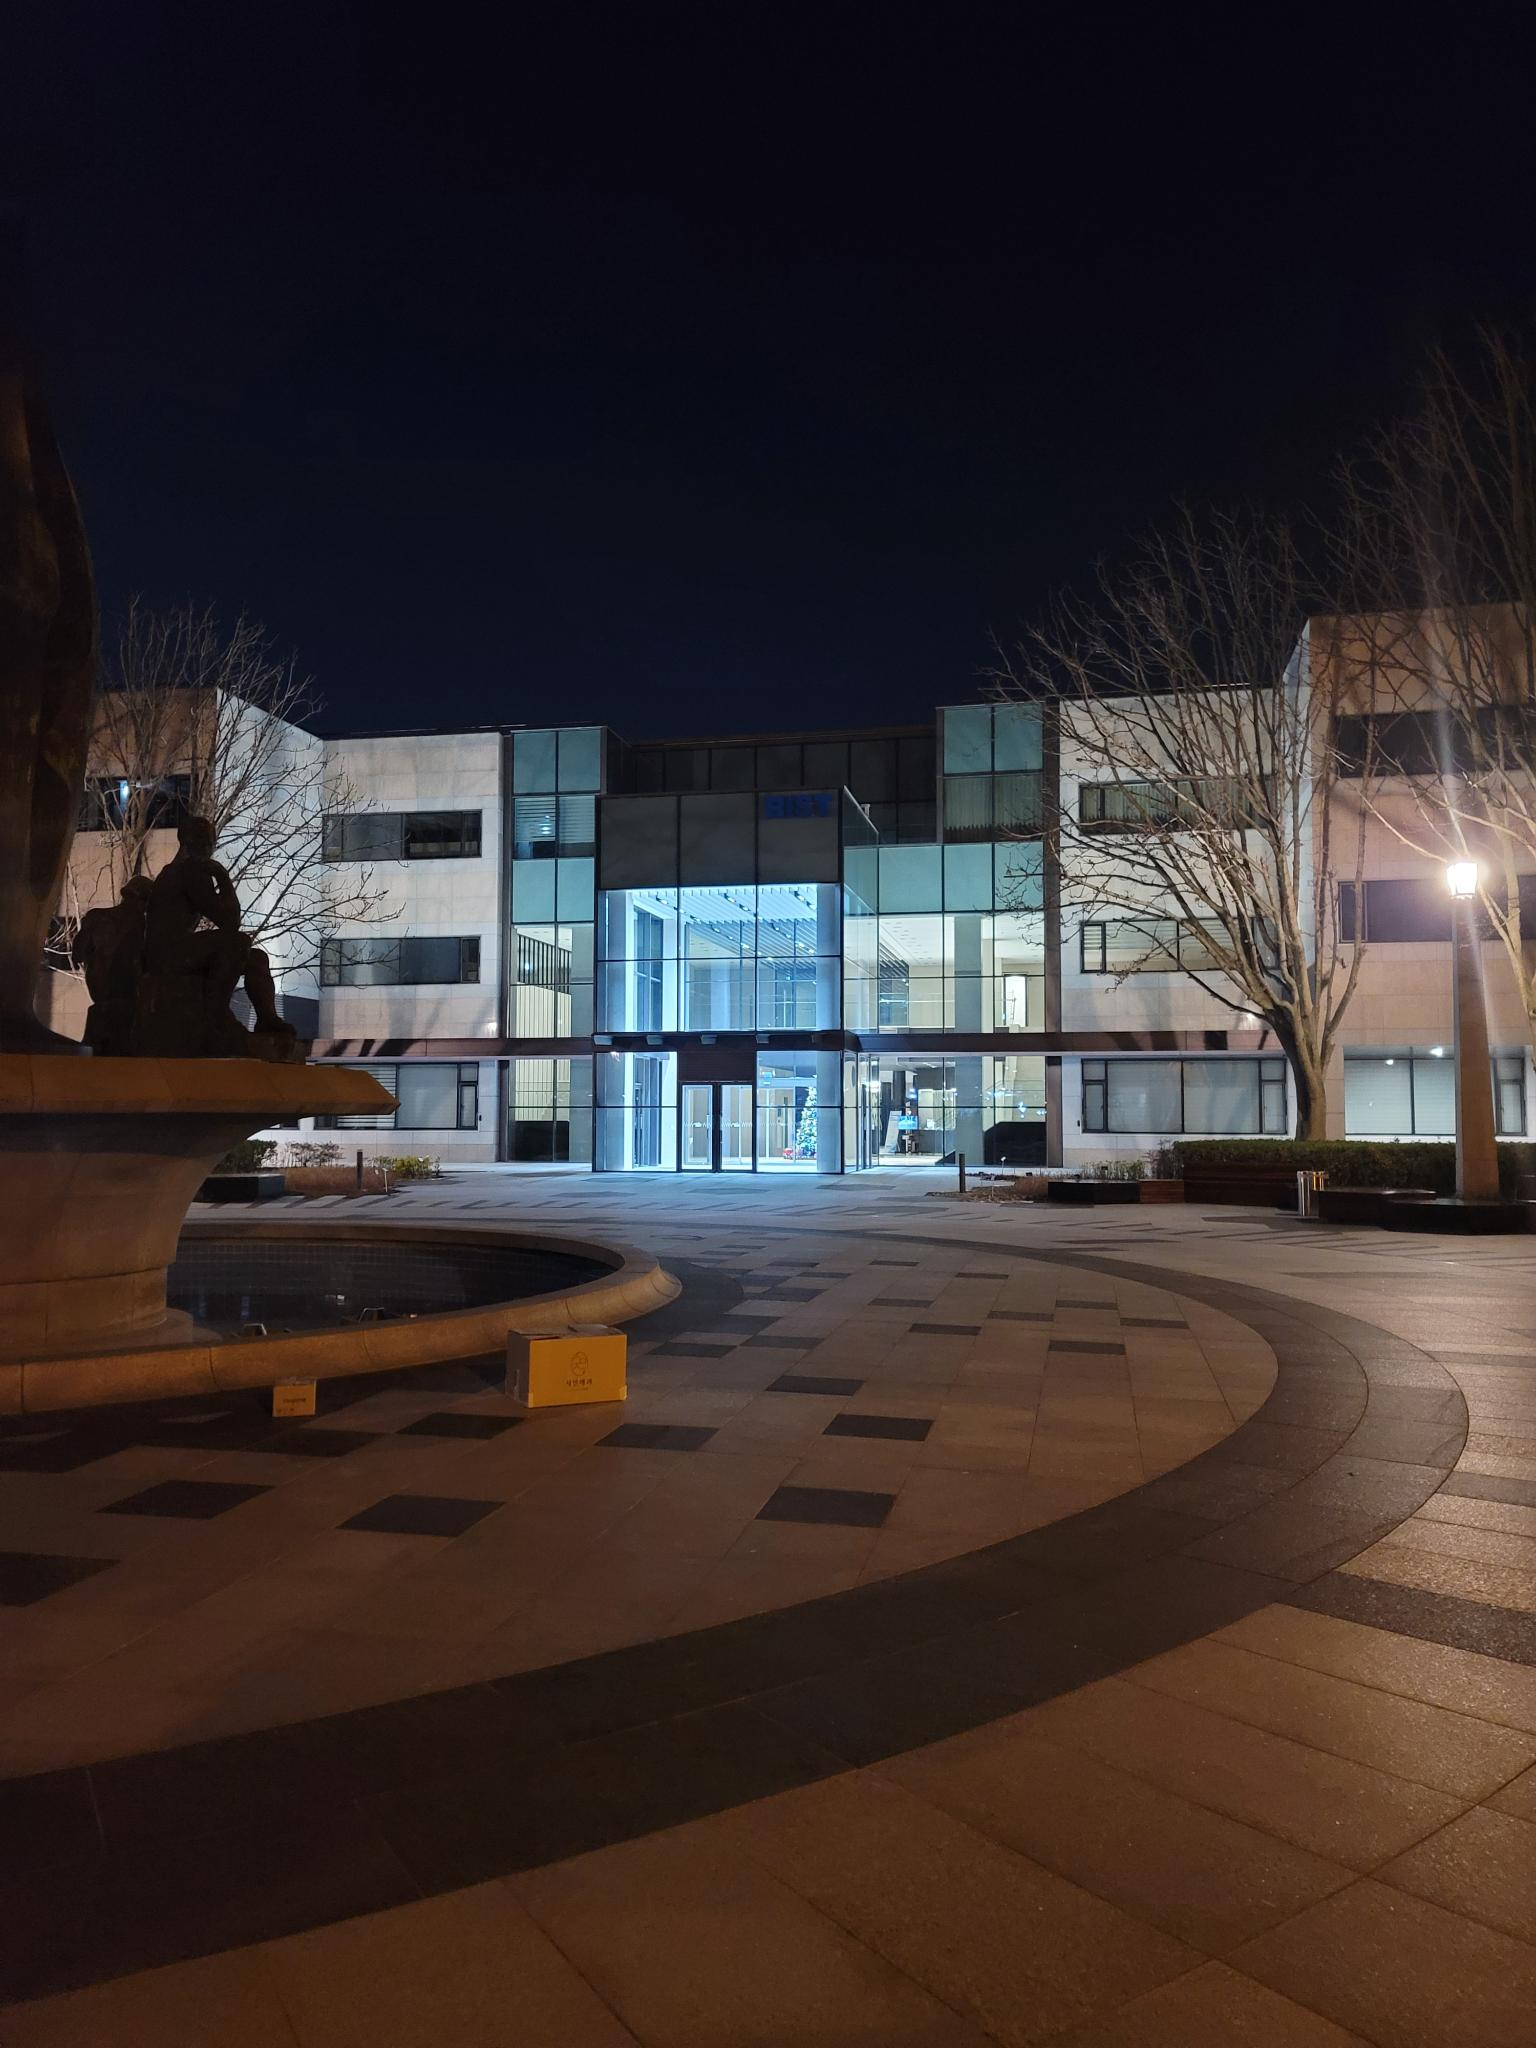Box: (487, 1317, 649, 1409), (271, 1363, 334, 1421)
